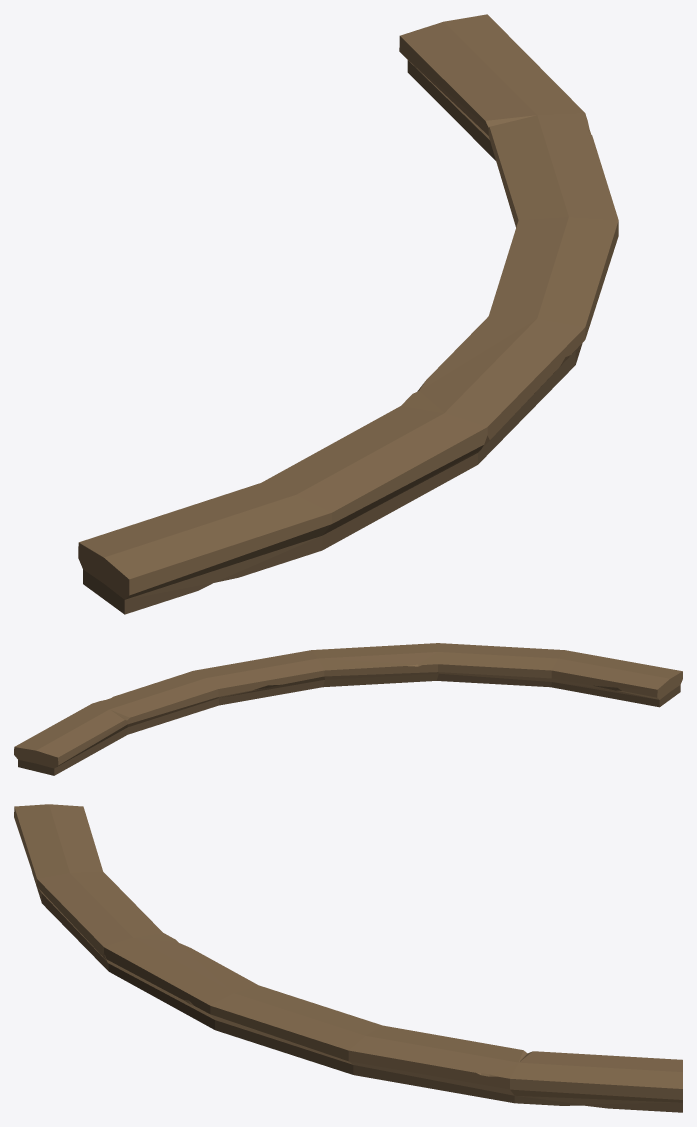
The model's file is SM_Bld_Wall_Curved_Trim_01.fbx.
The picture shows the model from 3 angles, top to bottom: view 1: azimuth 30°, elevation 25°; view 2: azimuth 150°, elevation 25°; view 3: azimuth 270°, elevation 25°; orthographic projection. The views are drawn at different scales.
Visible parts, largest first — view 1: SM_Bld_Wall_Curved_Trim_01; view 2: SM_Bld_Wall_Curved_Trim_01; view 3: SM_Bld_Wall_Curved_Trim_01.
Part boxes in pixels (bbox=[...]): SM_Bld_Wall_Curved_Trim_01: bbox=[78, 14, 618, 614]; SM_Bld_Wall_Curved_Trim_01: bbox=[14, 643, 682, 775]; SM_Bld_Wall_Curved_Trim_01: bbox=[14, 804, 682, 1112].
Bounding box in the file's own units: 528 × 25.42 × 528.
